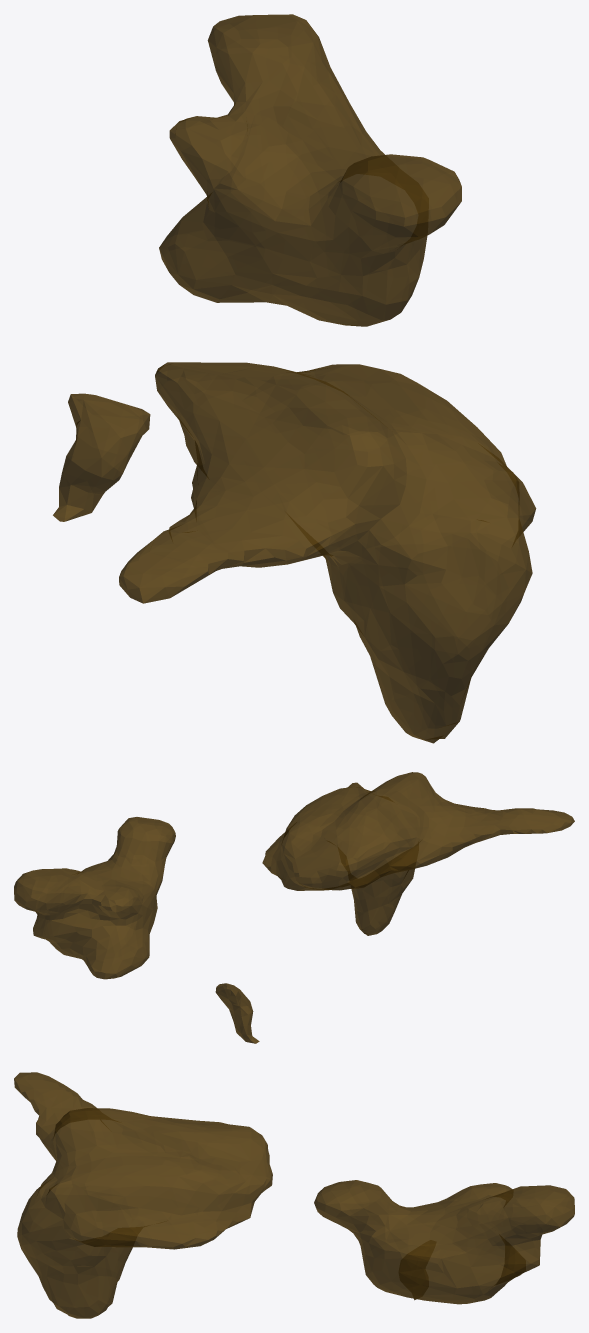
File: AngelsDust1.glb
3 renders of one model, top to bottom at view 1: azimuth 30°, elevation 25°; view 2: azimuth 150°, elevation 25°; view 3: azimuth 270°, elevation 25°, orthographic. The views are drawn at different scales.
Parts seen in each view (by area): view 1: AngelsDust1; view 2: AngelsDust1; view 3: AngelsDust1.
Part boxes in pixels (bbox=[...]): AngelsDust1: bbox=[53, 14, 536, 743]; AngelsDust1: bbox=[14, 772, 574, 1043]; AngelsDust1: bbox=[14, 1072, 574, 1318].
Size of the model in its own units: 85.58 by 44.21 by 115.
